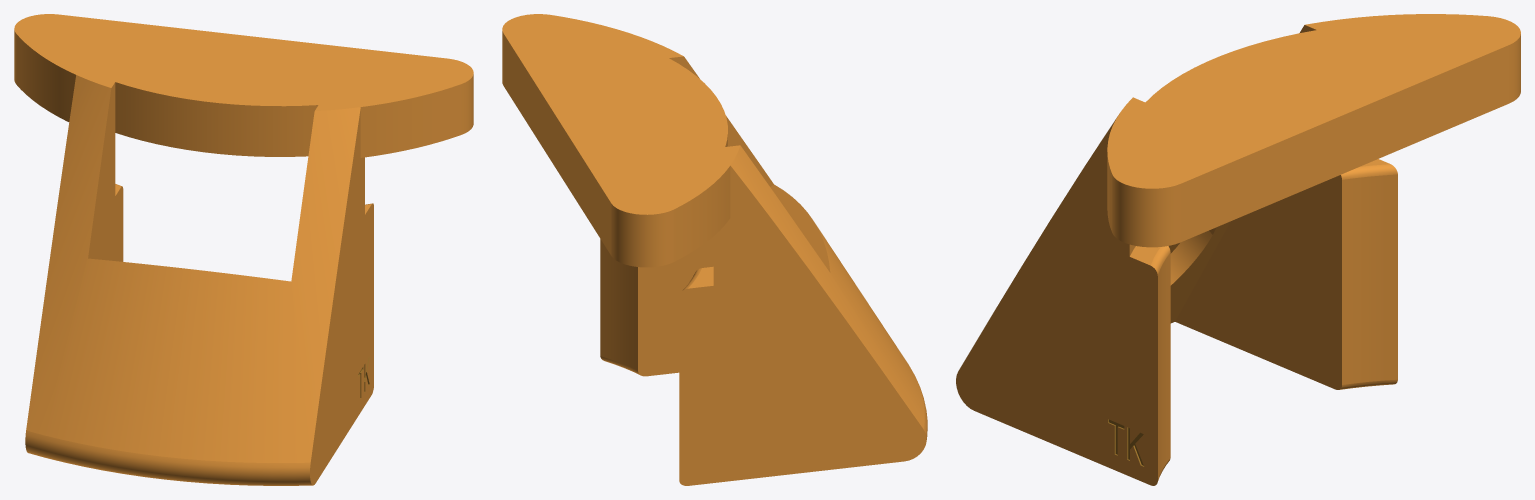
The model's file is Support.glb.
The picture shows the model from 3 angles, left to right: view 1: azimuth 30°, elevation 25°; view 2: azimuth 150°, elevation 25°; view 3: azimuth 270°, elevation 25°; orthographic projection. The views are drawn at different scales.
Visible parts, largest first — view 1: Shape_IndexedFaceSet.028, Shape_IndexedFaceSet.026, Shape_IndexedFaceSet, Shape_IndexedFaceSet.025, Shape_IndexedFaceSet.033, Shape_IndexedFaceSet.037, Shape_IndexedFaceSet.024, Shape_IndexedFaceSet.035, Shape_IndexedFaceSet.038; view 2: Shape_IndexedFaceSet.032, Shape_IndexedFaceSet.026, Shape_IndexedFaceSet.028, Shape_IndexedFaceSet.023, Shape_IndexedFaceSet.034, Shape_IndexedFaceSet.041, Shape_IndexedFaceSet.036, Shape_IndexedFaceSet.035, Shape_IndexedFaceSet.047; view 3: Shape_IndexedFaceSet, Shape_IndexedFaceSet.026, Shape_IndexedFaceSet.024, Shape_IndexedFaceSet.034, Shape_IndexedFaceSet.039, Shape_IndexedFaceSet.038, Shape_IndexedFaceSet.041, Shape_IndexedFaceSet.048, Shape_IndexedFaceSet.052, Shape_IndexedFaceSet.036.
Part boxes in pixels (x1,y1,x2,y2): Shape_IndexedFaceSet.028: (26,75,360,462); Shape_IndexedFaceSet.026: (14,14,473,111); Shape_IndexedFaceSet: (310,109,373,485); Shape_IndexedFaceSet.025: (115,82,318,156); Shape_IndexedFaceSet.033: (25,430,312,485); Shape_IndexedFaceSet.037: (360,84,461,157); Shape_IndexedFaceSet.024: (88,82,123,261); Shape_IndexedFaceSet.035: (16,34,75,121); Shape_IndexedFaceSet.038: (461,74,473,134); Shape_IndexedFaceSet.032: (679,166,926,485); Shape_IndexedFaceSet.026: (502,14,740,214); Shape_IndexedFaceSet.028: (730,145,924,429); Shape_IndexedFaceSet.023: (638,56,773,376); Shape_IndexedFaceSet.034: (503,34,611,255); Shape_IndexedFaceSet.041: (600,239,637,370); Shape_IndexedFaceSet.036: (611,204,674,267); Shape_IndexedFaceSet.035: (674,166,730,261); Shape_IndexedFaceSet.047: (770,184,830,272); Shape_IndexedFaceSet: (956,120,1157,485); Shape_IndexedFaceSet.026: (1107,14,1520,188); Shape_IndexedFaceSet.024: (1175,25,1341,389); Shape_IndexedFaceSet.034: (1180,45,1509,241); Shape_IndexedFaceSet.039: (1342,174,1397,384); Shape_IndexedFaceSet.038: (1112,175,1180,247); Shape_IndexedFaceSet.041: (1158,252,1170,479); Shape_IndexedFaceSet.048: (1170,221,1230,323); Shape_IndexedFaceSet.052: (1170,230,1212,285); Shape_IndexedFaceSet.036: (1509,34,1520,103).
Size of the model in its own units: 3.49 by 2.4 by 3.49.
